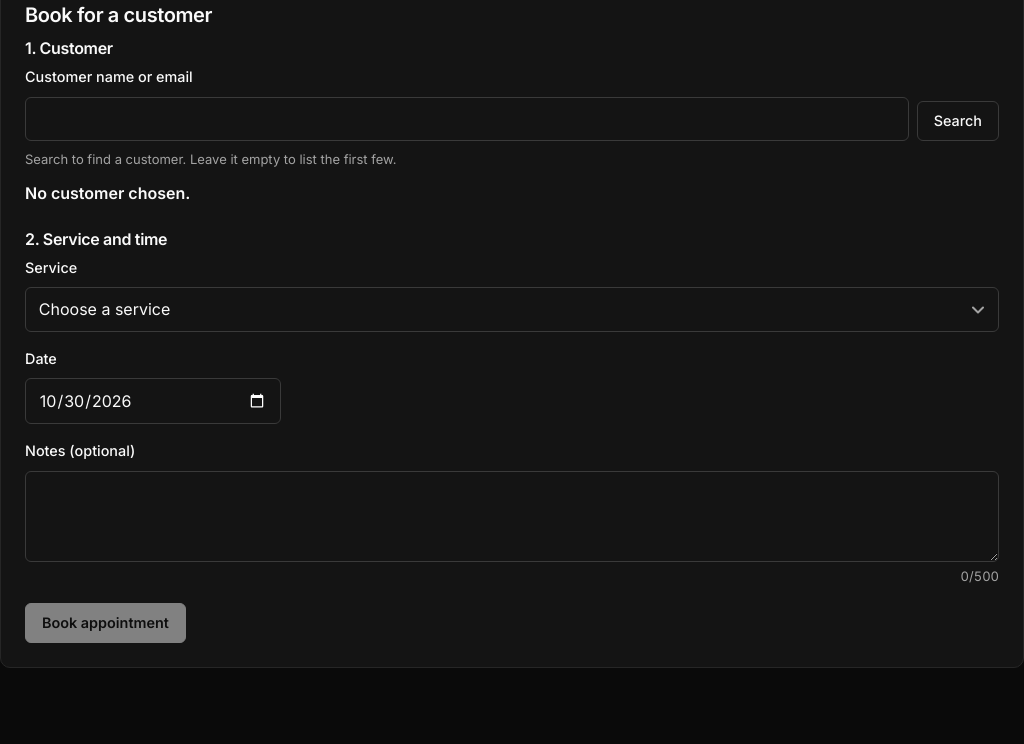
Scenario: StaffBookingForm › books for the chosen customer and reports success
Step 1. Click the button "Search" → (958, 121), box x1=917 y1=101 x2=999 y2=141
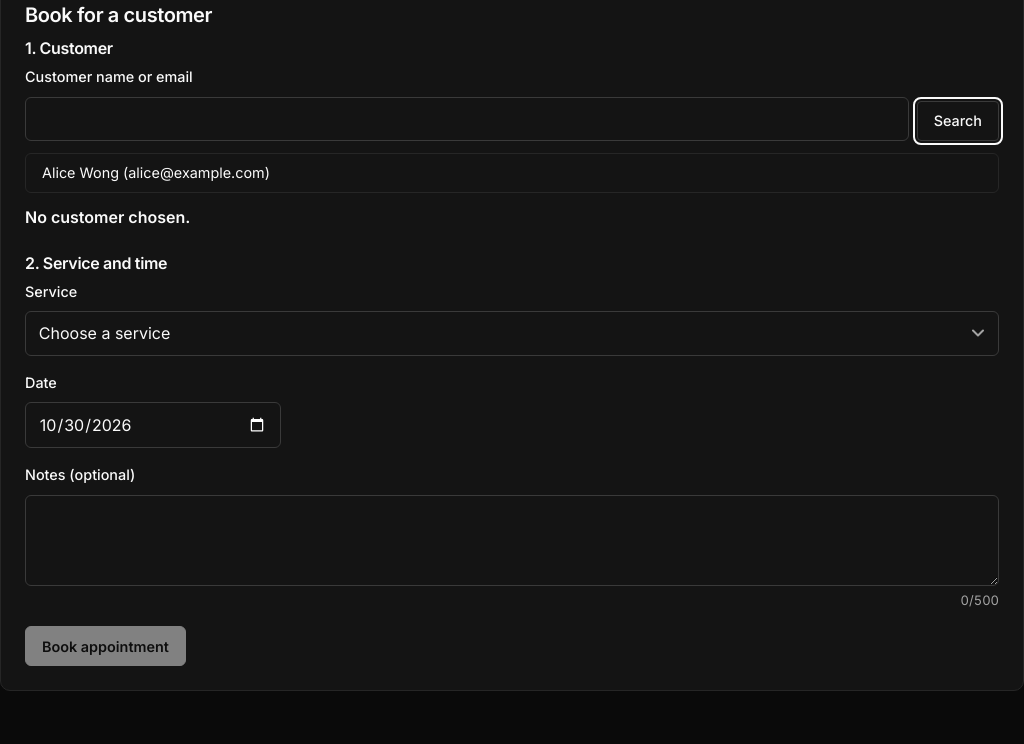
Step 2. Click the button "Alice Wong (alice@example.com)" → (156, 173), box x1=25 y1=153 x2=999 y2=193
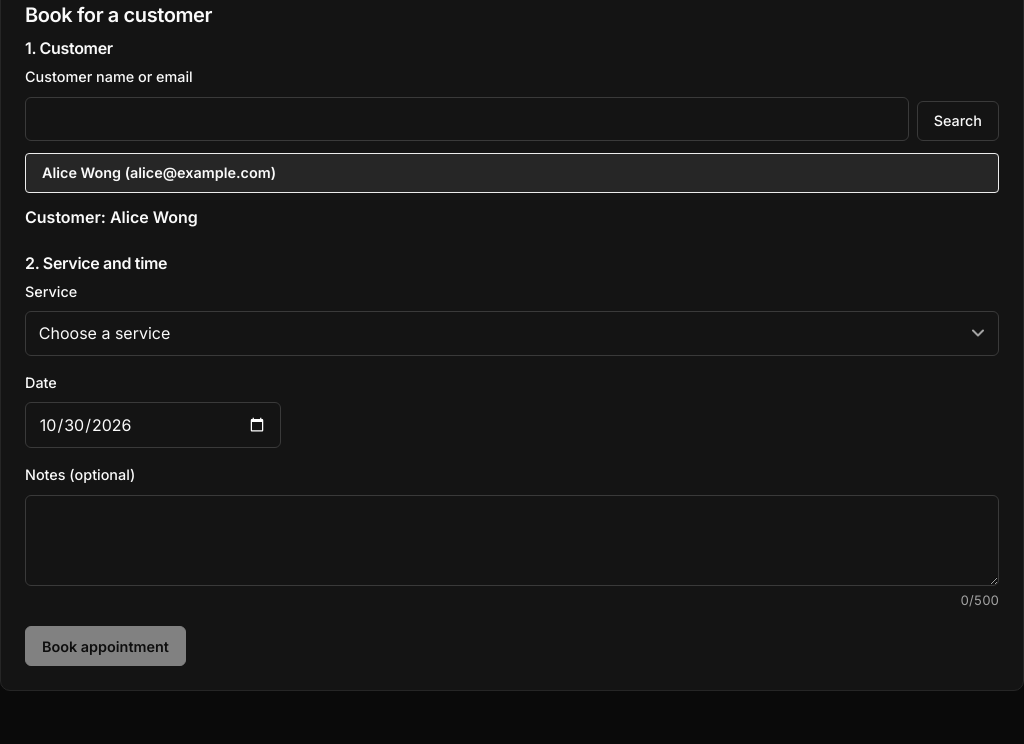
Step 3. Select "Haircut" in the dropdown labelled "Service" → (512, 333), box x1=25 y1=311 x2=999 y2=356
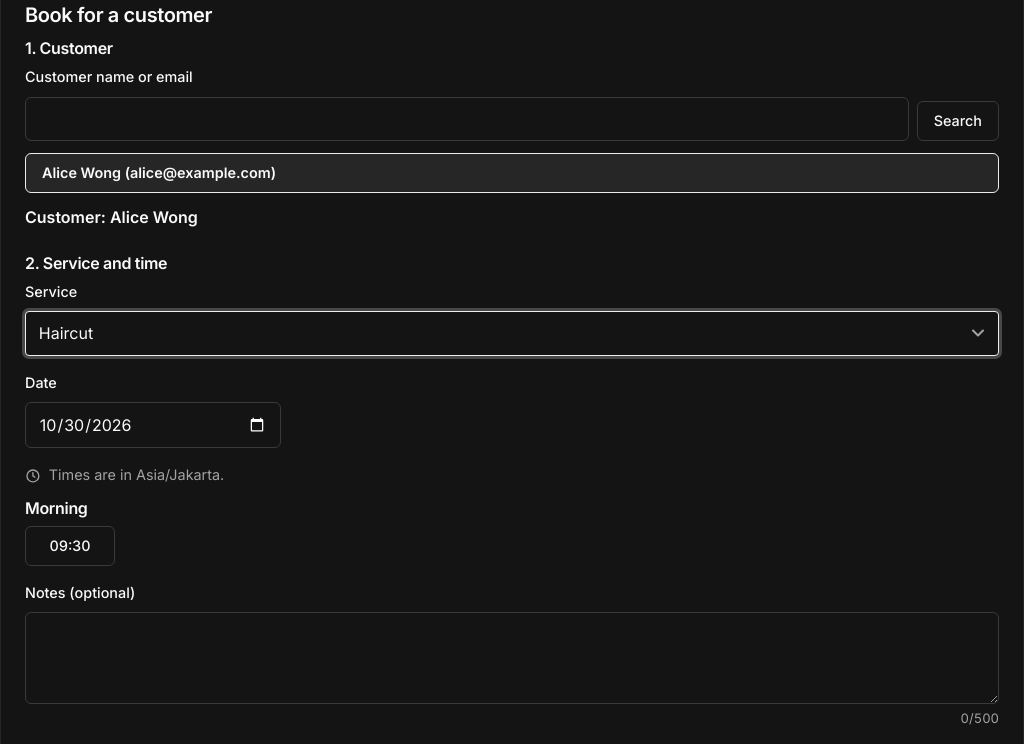
Step 4. Click the button "09:30" → (70, 546), box x1=25 y1=526 x2=115 y2=566
(page scrolled)
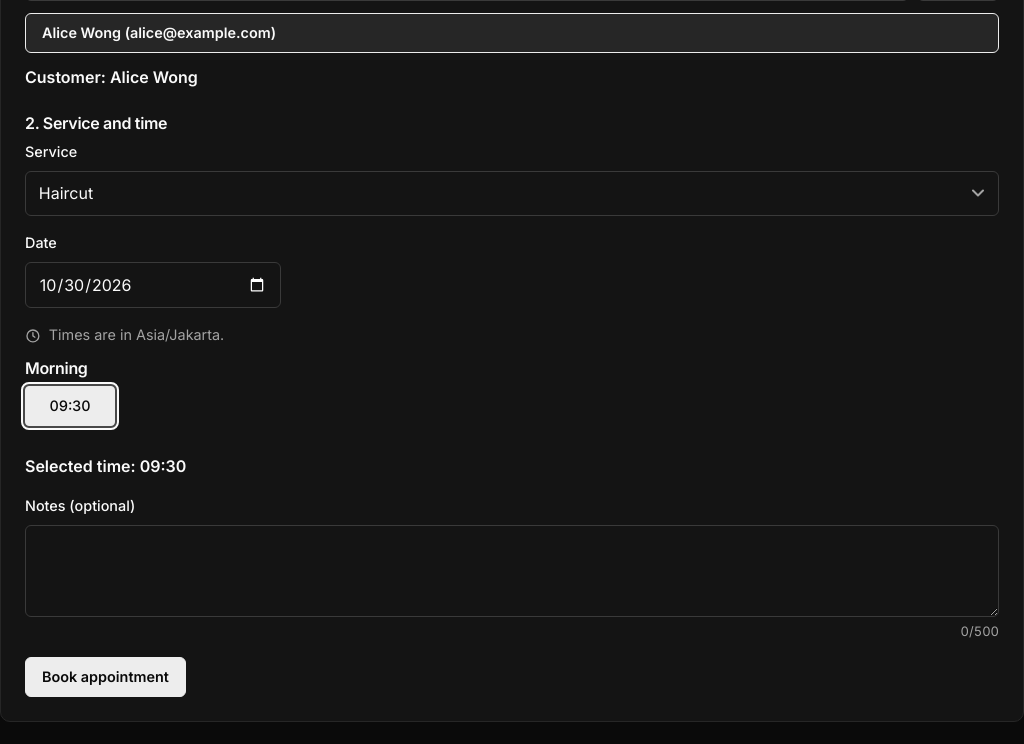
Step 5. Click the button "Book appointment" → (105, 677), box x1=25 y1=657 x2=186 y2=697
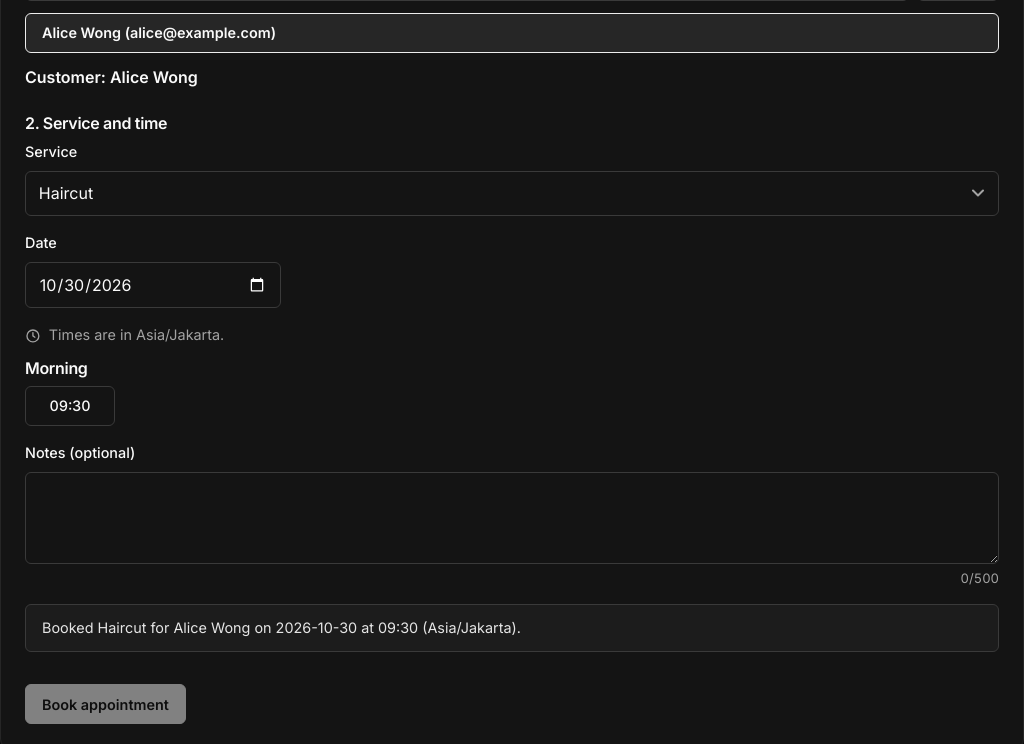
expect the text "Booked Haircut for Alice Wong on 2026-10-30 at 09:30 (Asia/Jakarta)." is shown: met, box x1=25 y1=604 x2=999 y2=652
